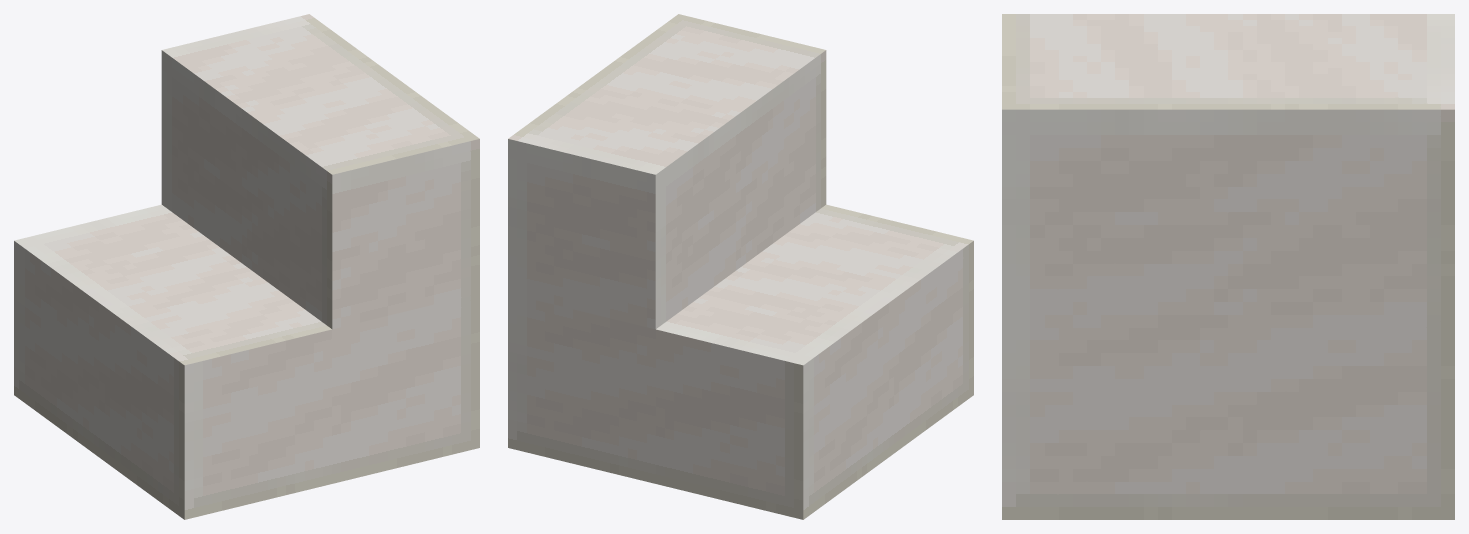
File: block_quartz_stairs.gltf
3 views of the same model, side by side, from view 1: azimuth 30°, elevation 25°; view 2: azimuth 150°, elevation 25°; view 3: azimuth 270°, elevation 25° (orthographic). The views are drawn at different scales.
Parts seen in each view (by area): view 1: cube (×2); view 2: cube (×2); view 3: cube (×2).
Part boxes in pixels (x1,y1,x2,y2): cube (×2): (14, 14, 479, 519); cube (×2): (508, 14, 973, 519); cube (×2): (1002, 14, 1454, 519).
Bounding box in the file's own units: 1 × 1 × 1.
2 materials, 2 textured.
